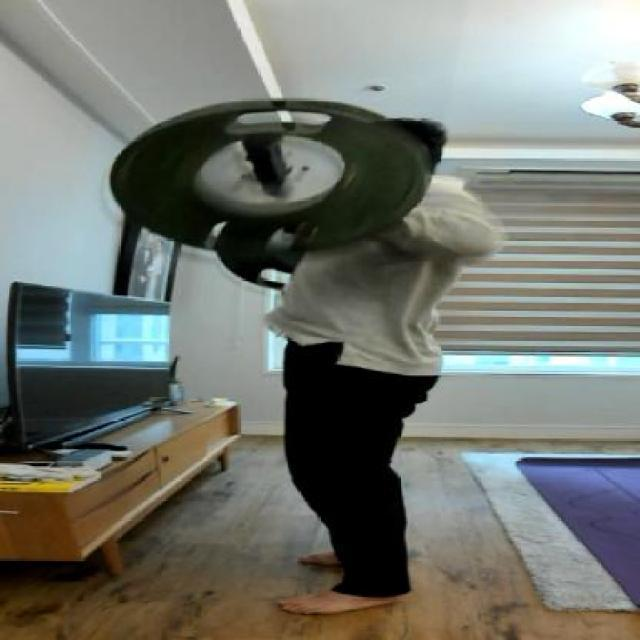Barbell: (225, 114, 298, 154)
